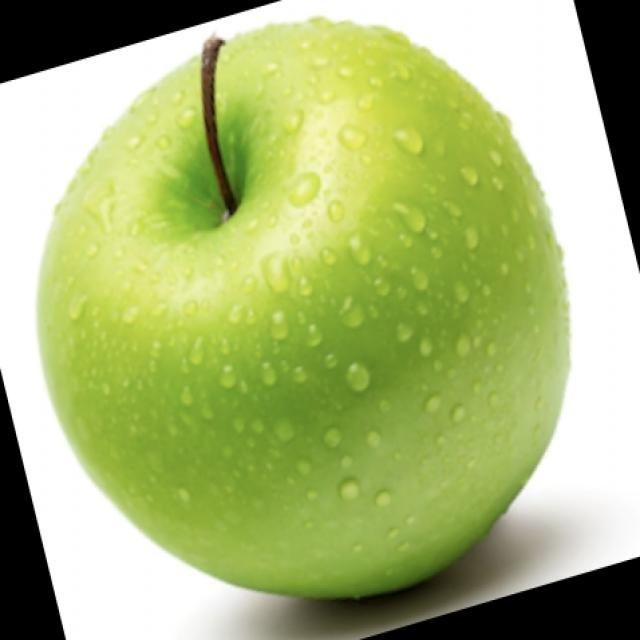Fresh Apple: (39, 32, 568, 605)
